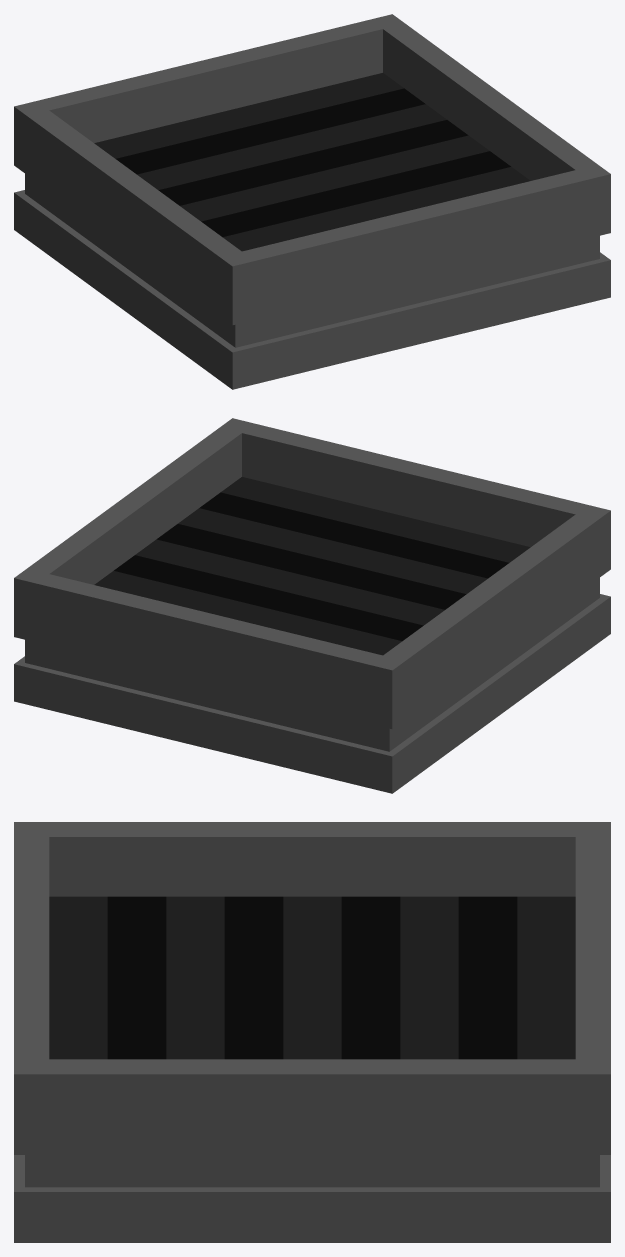
The model's file is Prop_RoofVent_01.fbx.
3 views of the same model, one above another, from view 1: azimuth 30°, elevation 25°; view 2: azimuth 150°, elevation 25°; view 3: azimuth 270°, elevation 25° (orthographic). The views are drawn at different scales.
Parts seen in each view (by area): view 1: Prop_RoofVent_01; view 2: Prop_RoofVent_01; view 3: Prop_RoofVent_01.
Boxes of the visible parts, x1,y1,x2,y2 form: Prop_RoofVent_01: (14, 14, 610, 389); Prop_RoofVent_01: (14, 418, 610, 793); Prop_RoofVent_01: (14, 822, 610, 1242).
Bounding box in the file's own units: 104 × 32.25 × 104.
